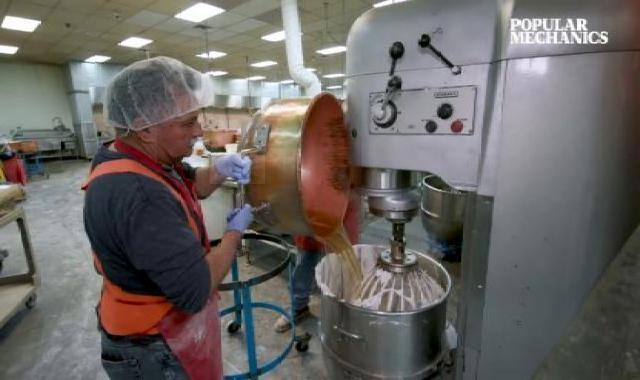apron: (222, 195, 256, 251), (210, 150, 265, 184)
gloves: (95, 56, 213, 136)
no_hairnet: (157, 122, 211, 166)
